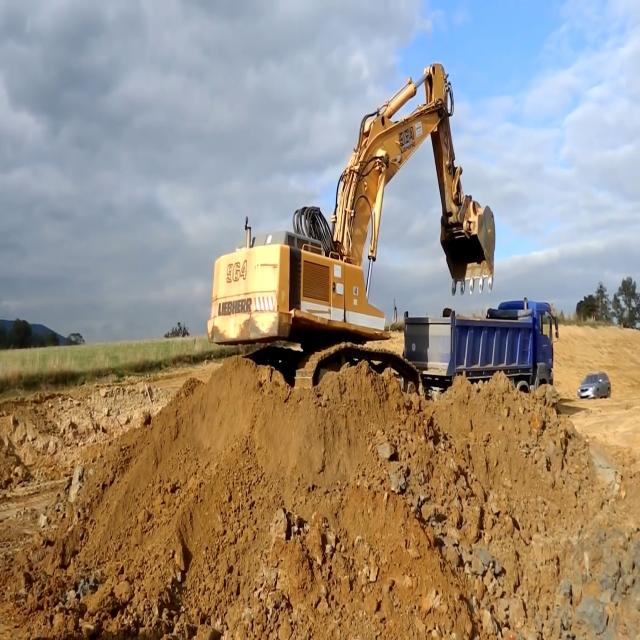Excavadora: (207, 63, 493, 395)
Maquinaria: (402, 297, 559, 395)
vehiculo: (578, 370, 611, 399)
